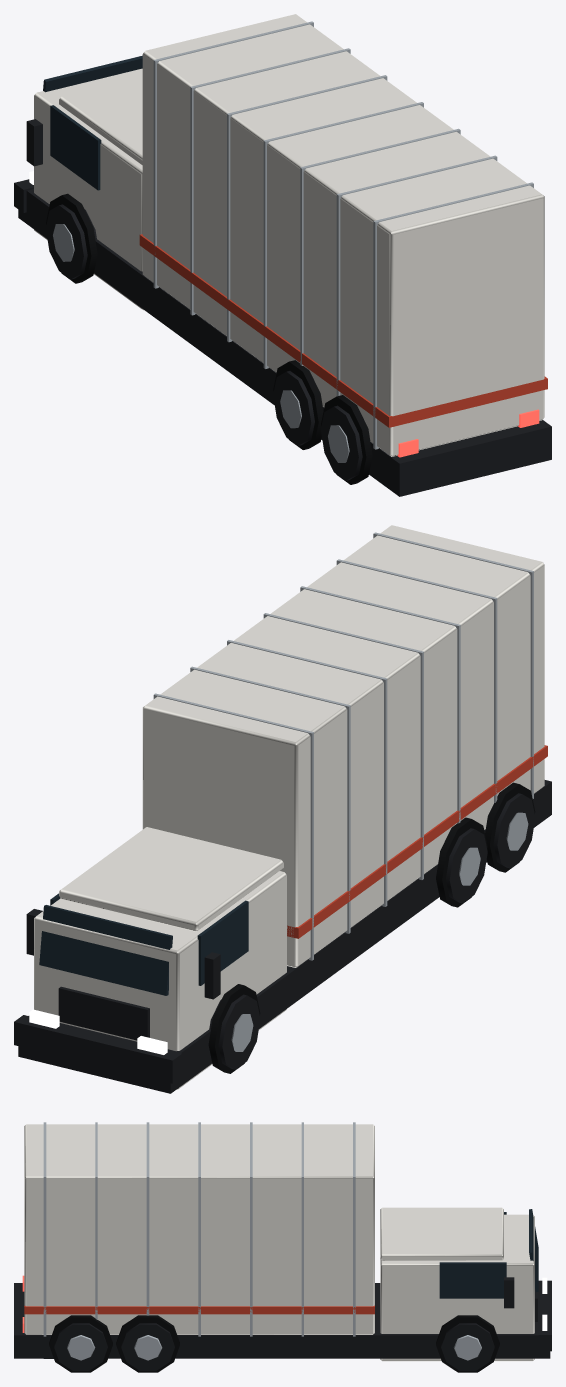
The model's file is city_truck.glb.
3 views of the same model, one above another, from view 1: azimuth 30°, elevation 25°; view 2: azimuth 150°, elevation 25°; view 3: azimuth 270°, elevation 25° (orthographic). The views are drawn at different scales.
Visible parts, largest first — view 1: city_truck_truck_white, city_truck_dark_metal, city_truck_steel, city_truck_stripe, city_truck_glass_dark, city_truck_arch, city_truck_tl_red; view 2: city_truck_truck_white, city_truck_dark_metal, city_truck_steel, city_truck_glass_dark, city_truck_arch, city_truck_stripe, city_truck_sign_glow; view 3: city_truck_truck_white, city_truck_dark_metal, city_truck_steel, city_truck_stripe, city_truck_arch, city_truck_glass_dark.
Boxes of the visible parts, left/top/right/bottom form: city_truck_truck_white: left=34, top=14, right=544, bottom=456; city_truck_dark_metal: left=14, top=119, right=551, bottom=496; city_truck_steel: left=53, top=21, right=533, bottom=462; city_truck_stripe: left=139, top=234, right=547, bottom=427; city_truck_glass_dark: left=43, top=55, right=142, bottom=190; city_truck_arch: left=46, top=193, right=372, bottom=484; city_truck_tl_red: left=397, top=409, right=539, bottom=457; city_truck_truck_white: left=34, top=525, right=544, bottom=1089; city_truck_dark_metal: left=14, top=780, right=551, bottom=1093; city_truck_steel: left=153, top=532, right=533, bottom=1051; city_truck_glass_dark: left=39, top=893, right=248, bottom=995; city_truck_arch: left=208, top=782, right=535, bottom=1073; city_truck_stripe: left=287, top=745, right=547, bottom=938; city_truck_sign_glow: left=29, top=1009, right=167, bottom=1054; city_truck_truck_white: left=24, top=1124, right=534, bottom=1361; city_truck_dark_metal: left=14, top=1277, right=551, bottom=1370; city_truck_steel: left=43, top=1122, right=481, bottom=1360; city_truck_stripe: left=24, top=1305, right=374, bottom=1314; city_truck_arch: left=49, top=1315, right=499, bottom=1372; city_truck_glass_dark: left=439, top=1209, right=538, bottom=1298.
Bounding box in the file's own units: 2.94 × 4.15 × 10.43.
